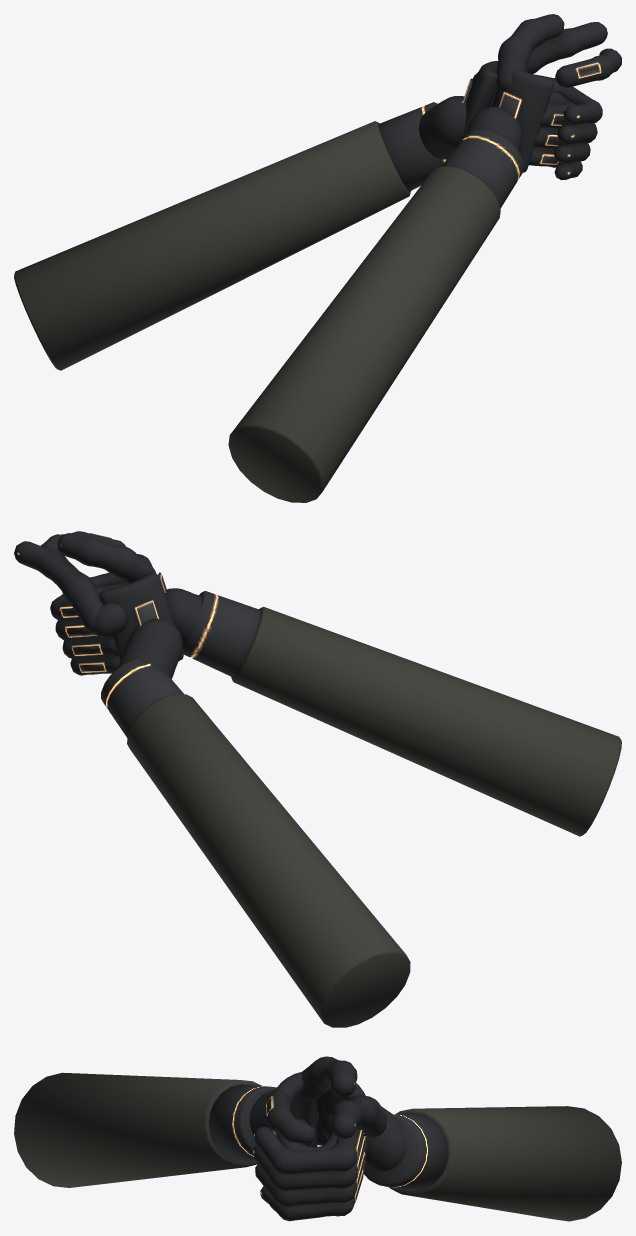
File: fp_arms.gltf
The picture shows the model from 3 angles, top to bottom: view 1: azimuth 30°, elevation 25°; view 2: azimuth 150°, elevation 25°; view 3: azimuth 270°, elevation 25°; orthographic projection. The views are drawn at different scales.
Visible parts, largest first — view 1: fp_arms; view 2: fp_arms; view 3: fp_arms.
Boxes of the visible parts, left/top/right/bottom form: fp_arms: left=14, top=14, right=621, bottom=502; fp_arms: left=14, top=531, right=621, bottom=1027; fp_arms: left=14, top=1056, right=621, bottom=1221.
Bounding box in the file's own units: 0.4852 × 0.312 × 0.4941.
1 material, 1 textured.
